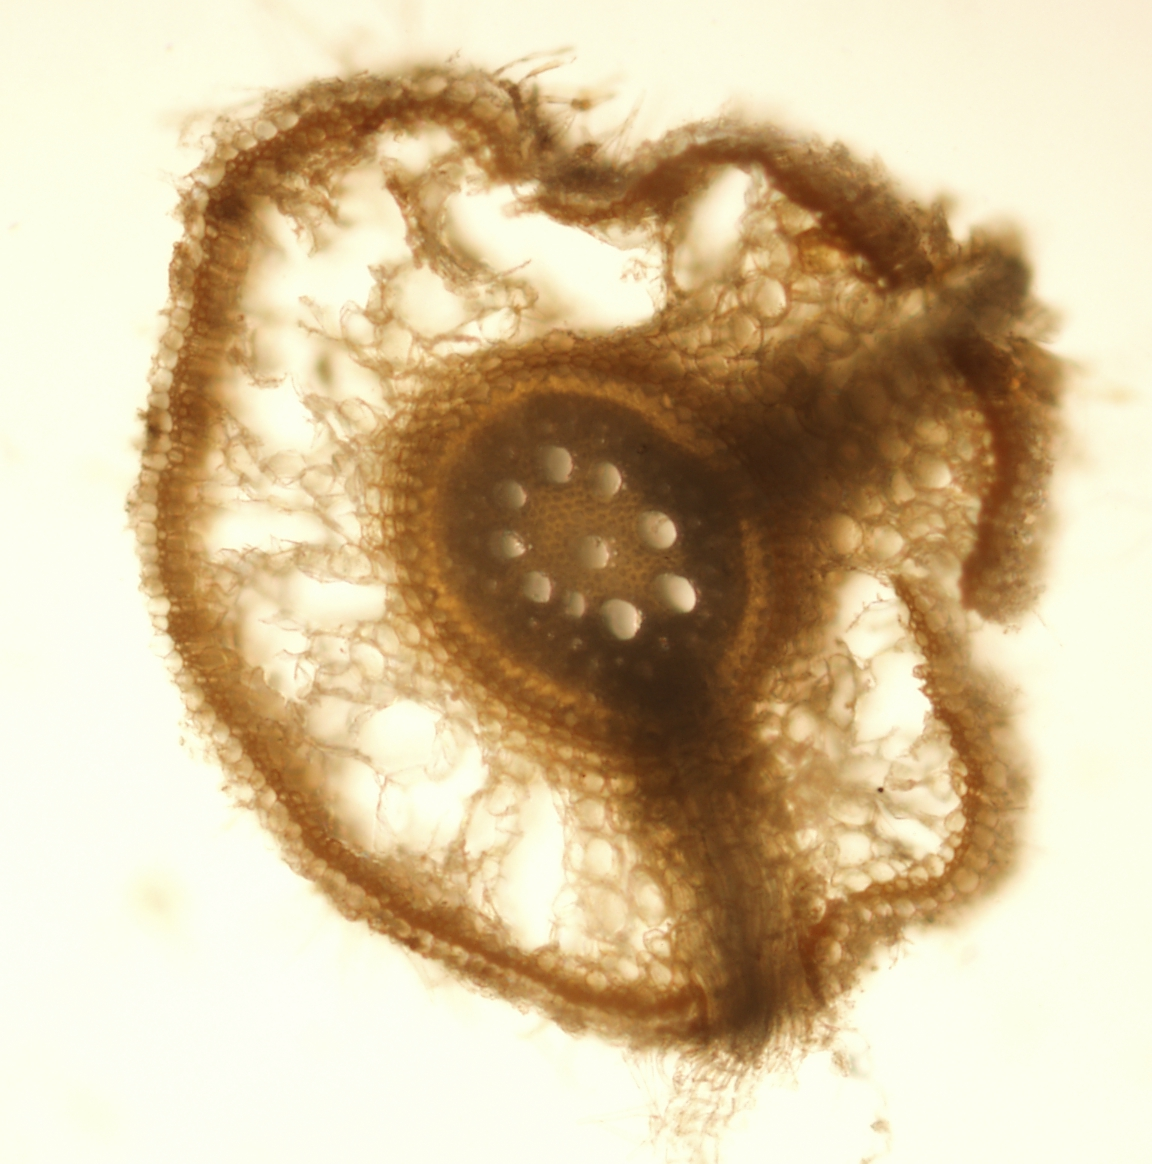lm: (650, 573, 696, 614), (599, 598, 642, 640), (585, 460, 622, 503), (636, 510, 675, 548), (539, 445, 571, 482), (489, 529, 527, 558), (576, 535, 609, 569), (492, 477, 527, 508), (522, 570, 550, 603), (561, 590, 585, 618)
